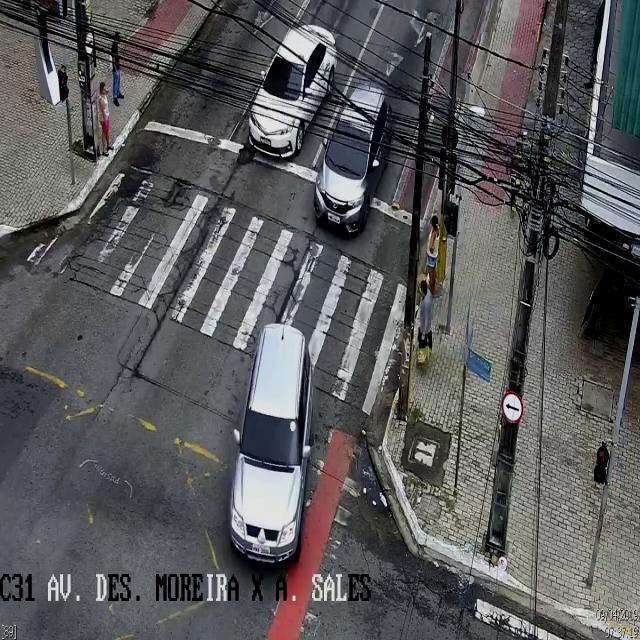Car: (229, 324, 312, 564), (248, 25, 336, 161), (315, 82, 391, 234)
